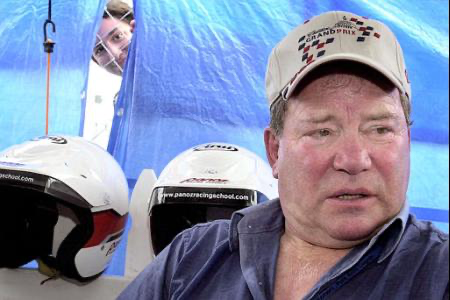Face: (283, 98, 412, 248), (82, 19, 137, 79)
